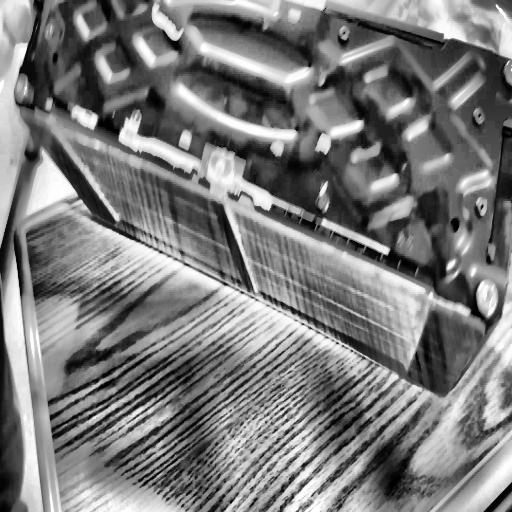battery_module: (6, 0, 512, 383)
